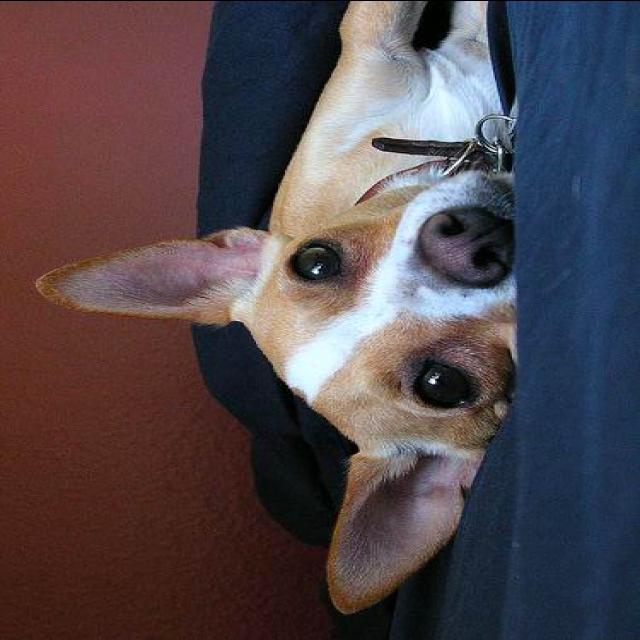chihuahua: (24, 0, 519, 612)
